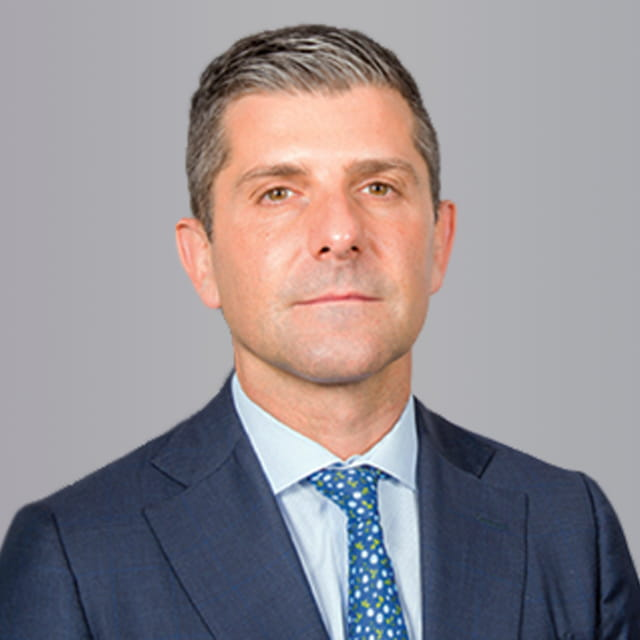human: (179, 76, 453, 381)
